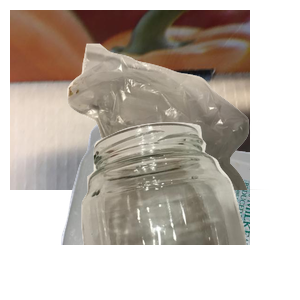cardboard: (10, 10, 250, 190)
glass: (74, 120, 300, 300)
plastic: (58, 120, 298, 300)
trash: (65, 41, 300, 221)
